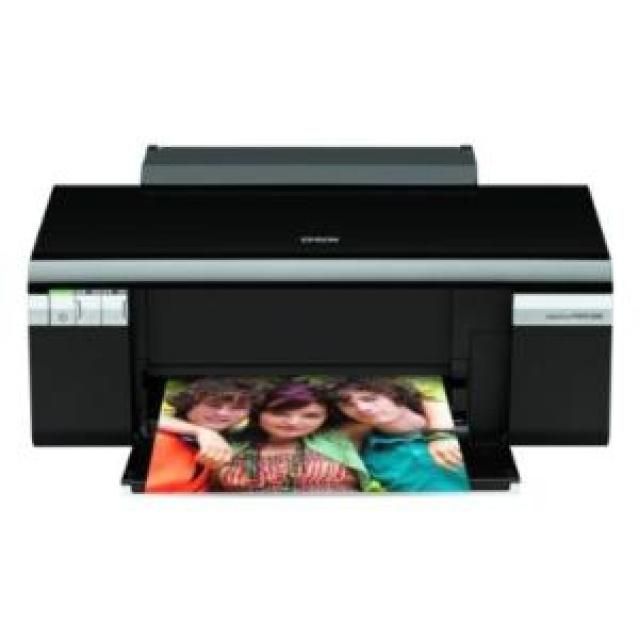Printer: (26, 142, 612, 496)
